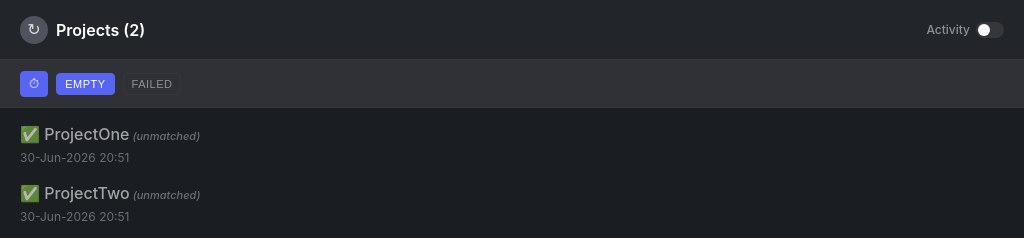
Scenario: ProjectsPaneMVVM (direct facade) › should cycle through sort methods
Click the button "⏱" at (34, 84), box 20,70 -> 48,96
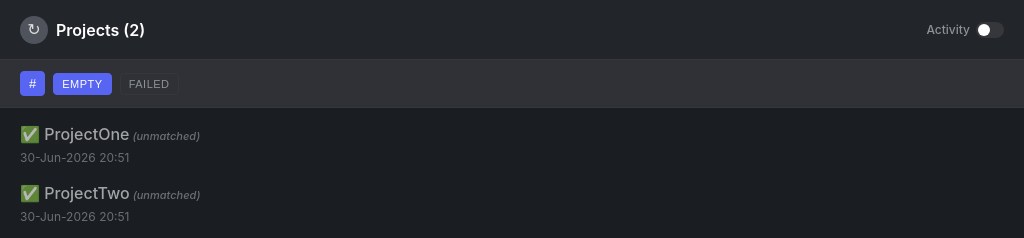
Expected: the button "#" is shown
Note: Click to change to alphabetic sort
Click the button "#" at (33, 84), box 20,71 -> 45,96
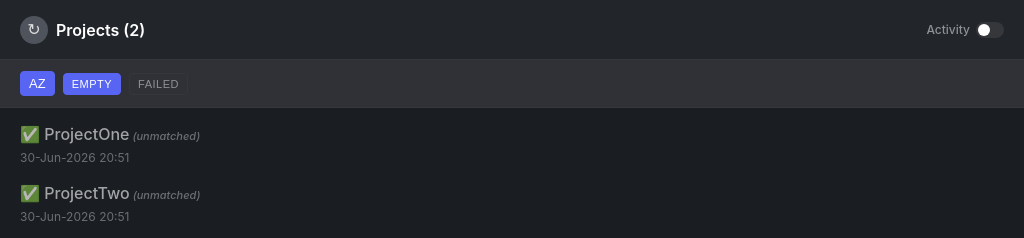
Expected: the button "AZ" is shown
Note: Click to cycle back to recent sort
Click the button "AZ" at (37, 84), box 20,71 -> 55,96
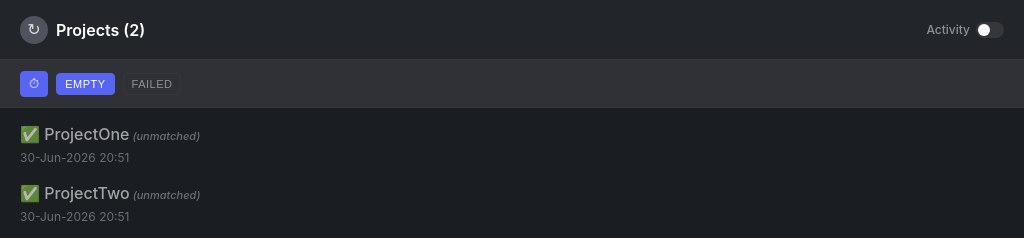
Expected: the button "⏱" is shown, 20,70 -> 48,96
